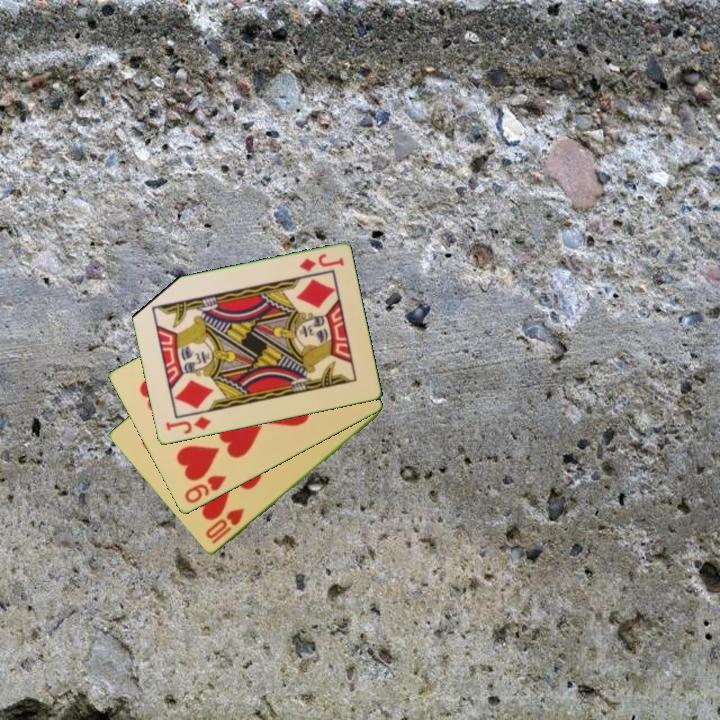10h: (202, 505, 248, 547)
9h: (181, 472, 229, 507)
Jd: (296, 250, 347, 275), (162, 413, 214, 437)
